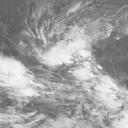cyclone: (33, 29, 100, 93)
